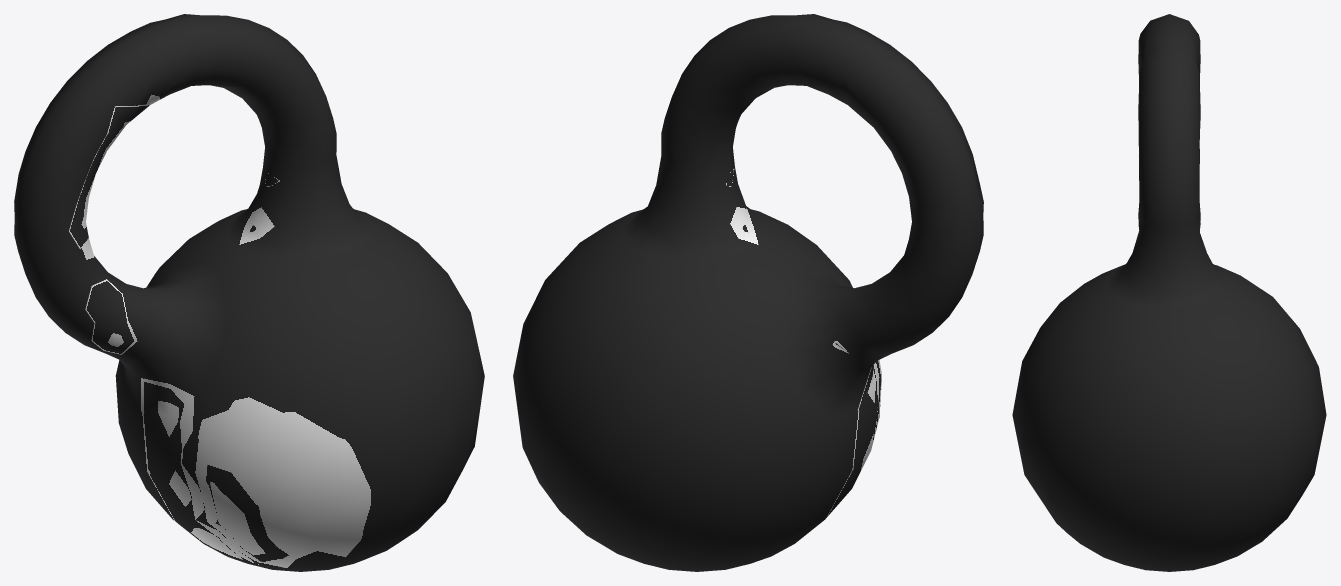
File: klein_bottle_occ_cgal_conformal_result.glb
3 views of the same model, side by side, from view 1: azimuth 30°, elevation 25°; view 2: azimuth 150°, elevation 25°; view 3: azimuth 270°, elevation 25° (orthographic). The views are drawn at different scales.
Bounding box in the file's own units: 139 × 164 × 100.
Materials: 1 (1 with a texture image).
